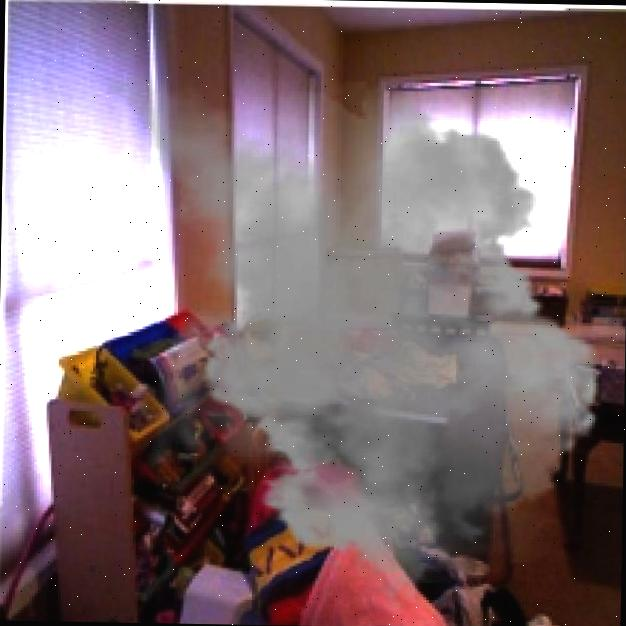smoke: (58, 57, 621, 617)
